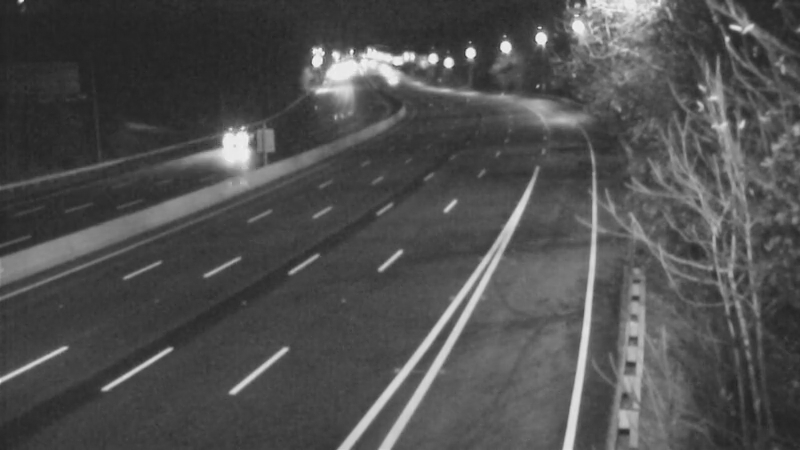vehicle: (367, 53, 417, 103), (209, 120, 259, 170)
